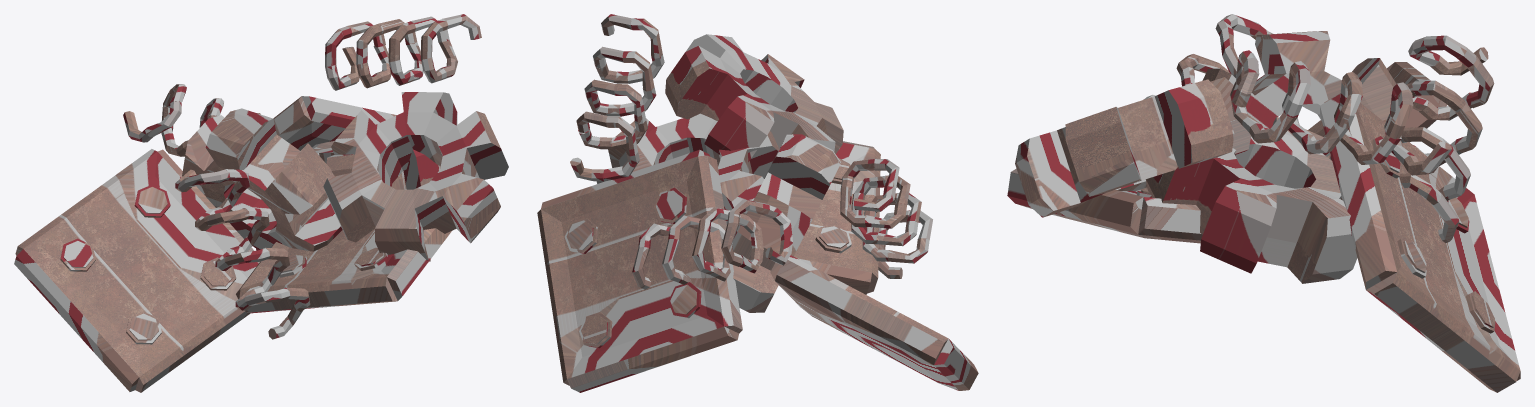
File: trashClump.fbx
The picture shows the model from 3 angles, left to right: view 1: azimuth 30°, elevation 25°; view 2: azimuth 150°, elevation 25°; view 3: azimuth 270°, elevation 25°; orthographic projection. The views are drawn at different scales.
Parts seen in each view (by area): view 1: TrashClump; view 2: TrashClump; view 3: TrashClump.
Part boxes in pixels (x1=…): TrashClump: x1=14, y1=14, x2=508, y2=392; TrashClump: x1=537, y1=14, x2=978, y2=392; TrashClump: x1=1007, y1=14, x2=1520, y2=392.
Size of the model in its own units: 377 by 257 by 320.
